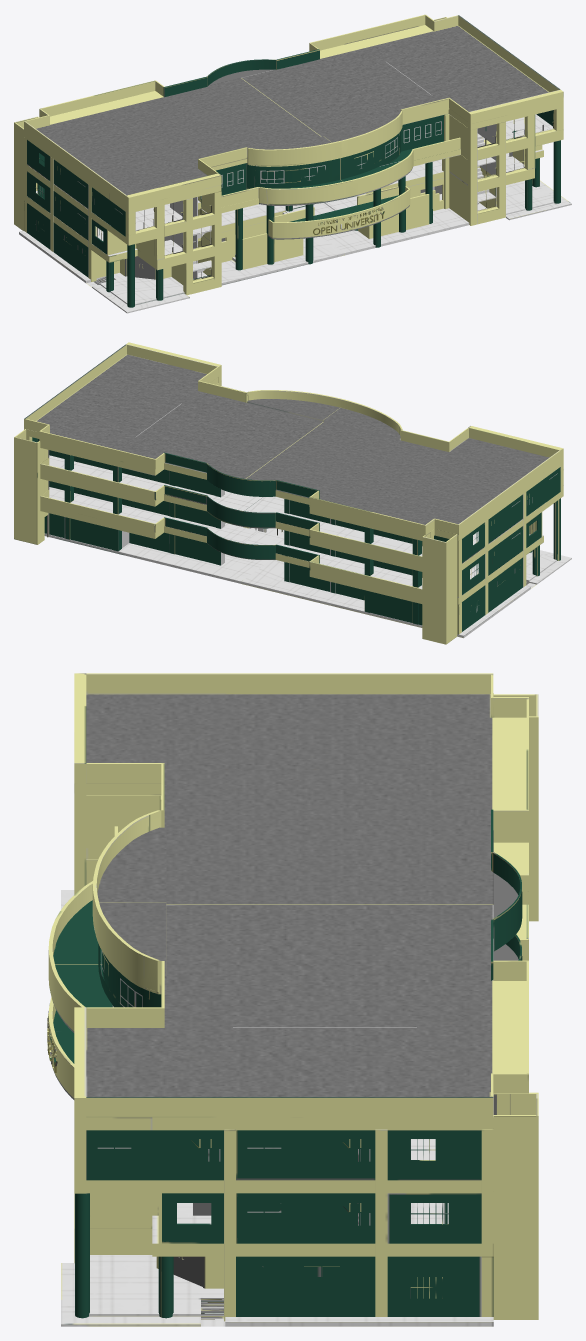
The model's file is Main Bldg Corrected Spelling_Baked_L1.fbx.
3 views of the same model, one above another, from view 1: azimuth 30°, elevation 25°; view 2: azimuth 150°, elevation 25°; view 3: azimuth 270°, elevation 25° (orthographic). The views are drawn at different scales.
Parts seen in each view (by area): view 1: Cube.118; view 2: Cube.118; view 3: Cube.118.
Part boxes in pixels (<box>): Cube.118: <box>14,14,571,313</box>; Cube.118: <box>14,342,571,644</box>; Cube.118: <box>47,673,538,1326</box>.
Size of the model in its own units: 4639 by 1121 by 2220.
